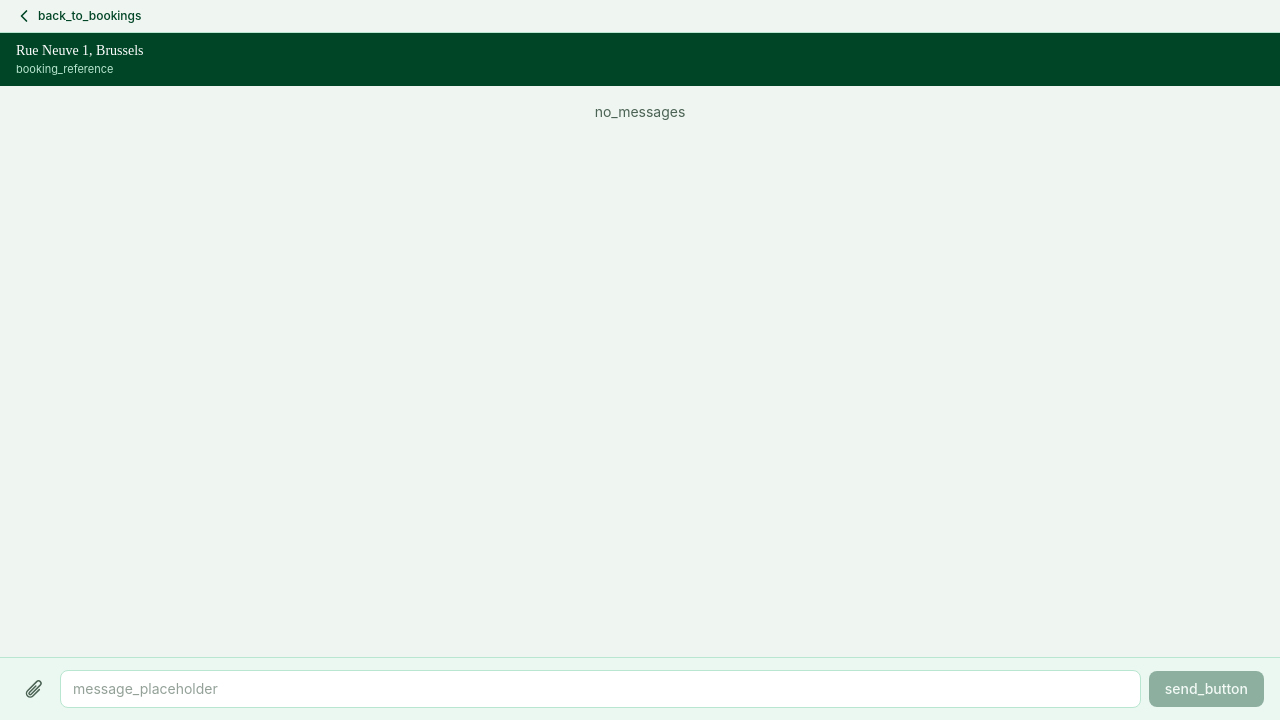
Test: Chat emoji stripping › emoji removed before message is sent
Type "Great! " into the field with placeholder "message_placeholder" at (600, 689), box x1=60 y1=670 x2=1141 y2=708
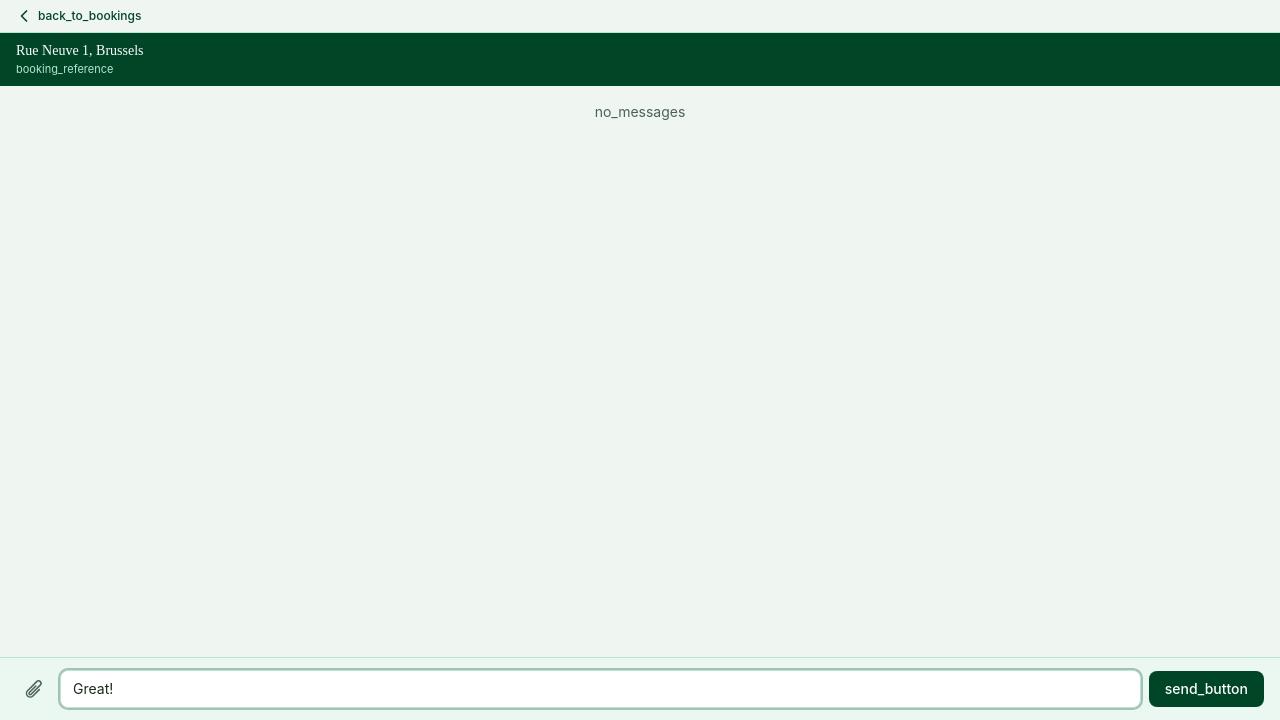
Press Enter
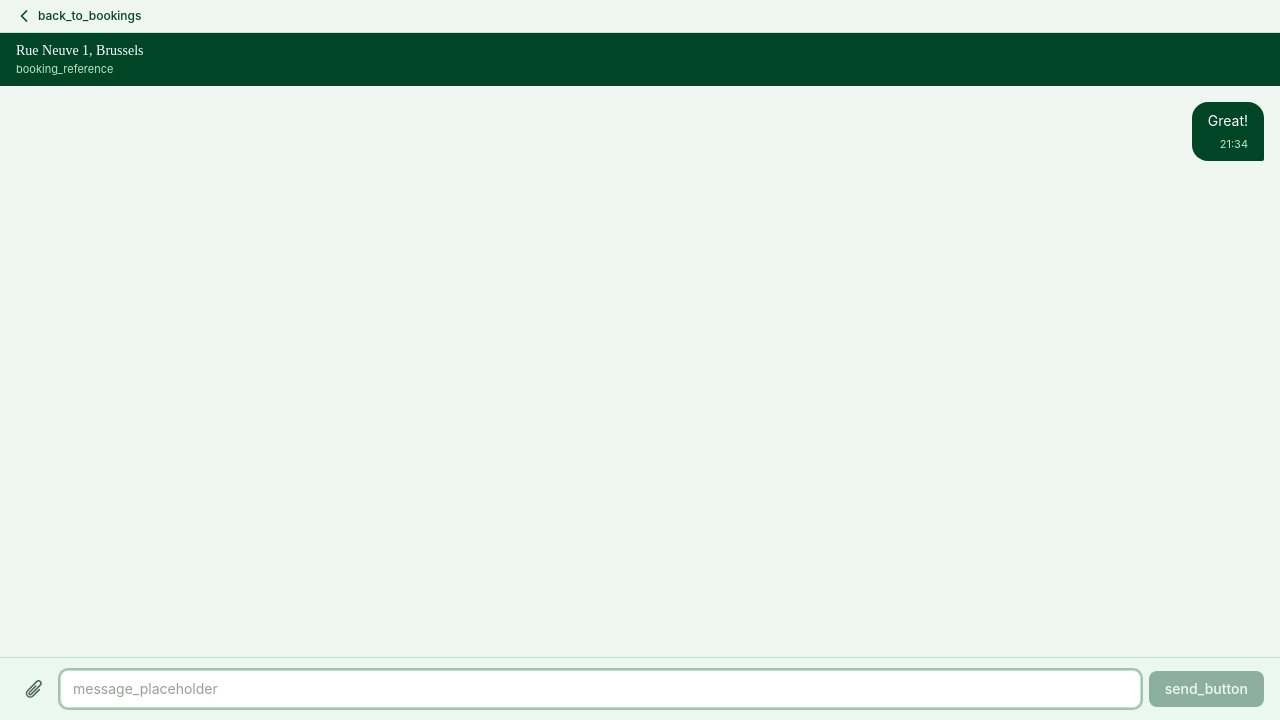
expect the element with test id "chat-bubble" is shown: met, box x1=1192 y1=102 x2=1264 y2=161
expect the text "Great!" is shown: met, box x1=1208 y1=110 x2=1248 y2=132
